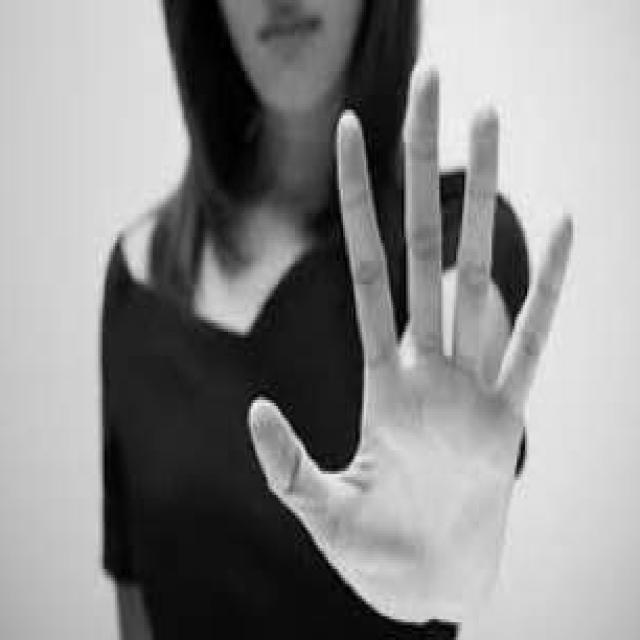stop: (242, 56, 583, 631)
